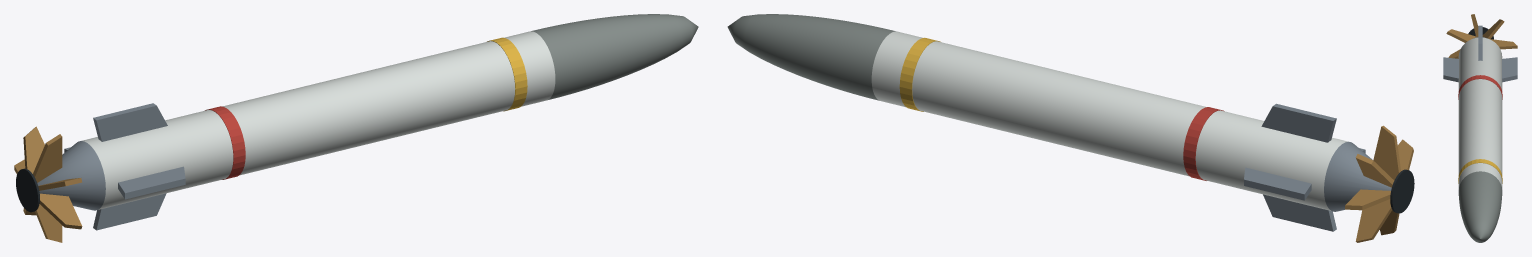
The picture shows the model from 3 angles, left to right: view 1: azimuth 30°, elevation 25°; view 2: azimuth 150°, elevation 25°; view 3: azimuth 270°, elevation 25°; orthographic projection. The views are drawn at different scales.
Visible parts, largest first — view 1: cw90_mk48; view 2: cw90_mk48; view 3: cw90_mk48.
Part boxes in pixels (x1,y1,x2,y2): cw90_mk48: [14, 14, 698, 242]; cw90_mk48: [727, 14, 1414, 242]; cw90_mk48: [1443, 14, 1517, 242].
Size of the model in its own units: 10 by 1.57 by 1.57.
